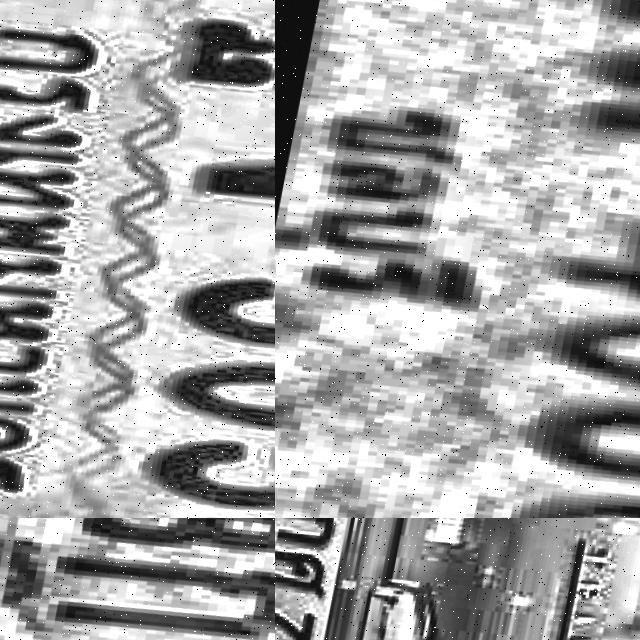license-plate: (275, 0, 640, 518), (0, 0, 275, 518), (0, 518, 275, 640), (275, 518, 379, 640)
